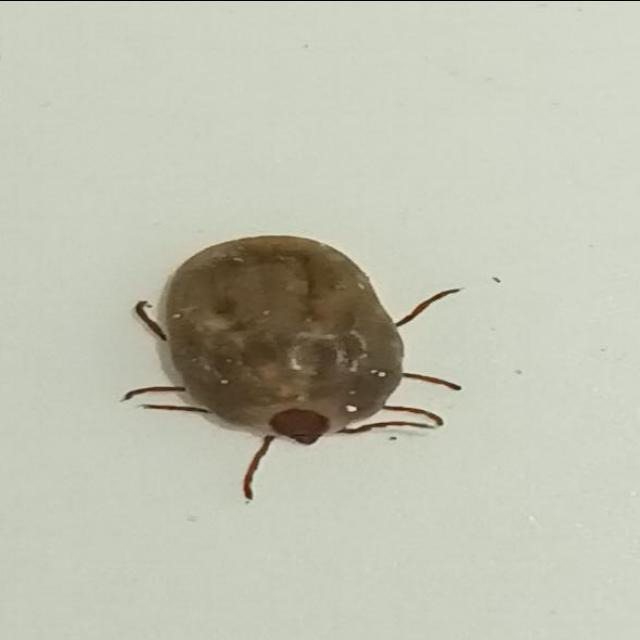Rhipicephalus Sanguineus-F-Fed: (119, 233, 463, 500)
